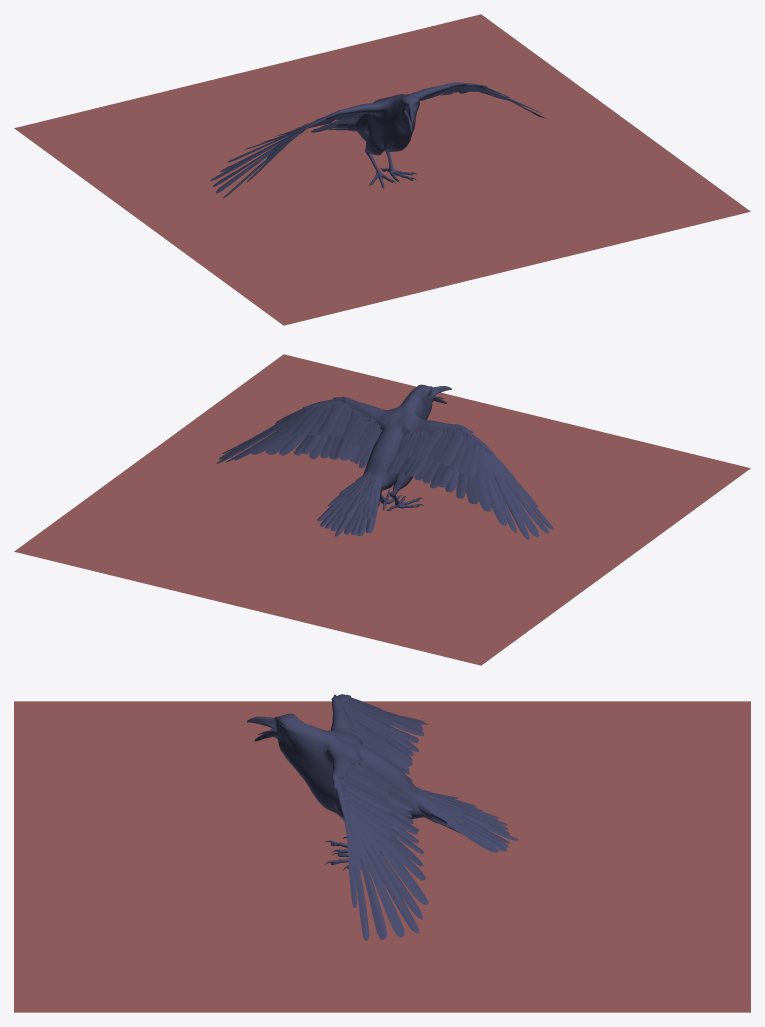
The model's file is raven.fbx.
3 renders of one model, top to bottom at view 1: azimuth 30°, elevation 25°; view 2: azimuth 150°, elevation 25°; view 3: azimuth 270°, elevation 25°, orthographic. The views are drawn at different scales.
Parts seen in each view (by area): view 1: Plane, Raven; view 2: Plane, Raven; view 3: Plane, Raven.
Part boxes in pixels (x1,y1,x2,y2): Plane: (14, 14, 750, 325); Raven: (210, 82, 547, 198); Plane: (14, 354, 750, 665); Raven: (216, 384, 553, 539); Plane: (14, 701, 750, 1012); Raven: (247, 694, 518, 940).
Size of the model in its own units: 10.44 by 2.16 by 10.44.
